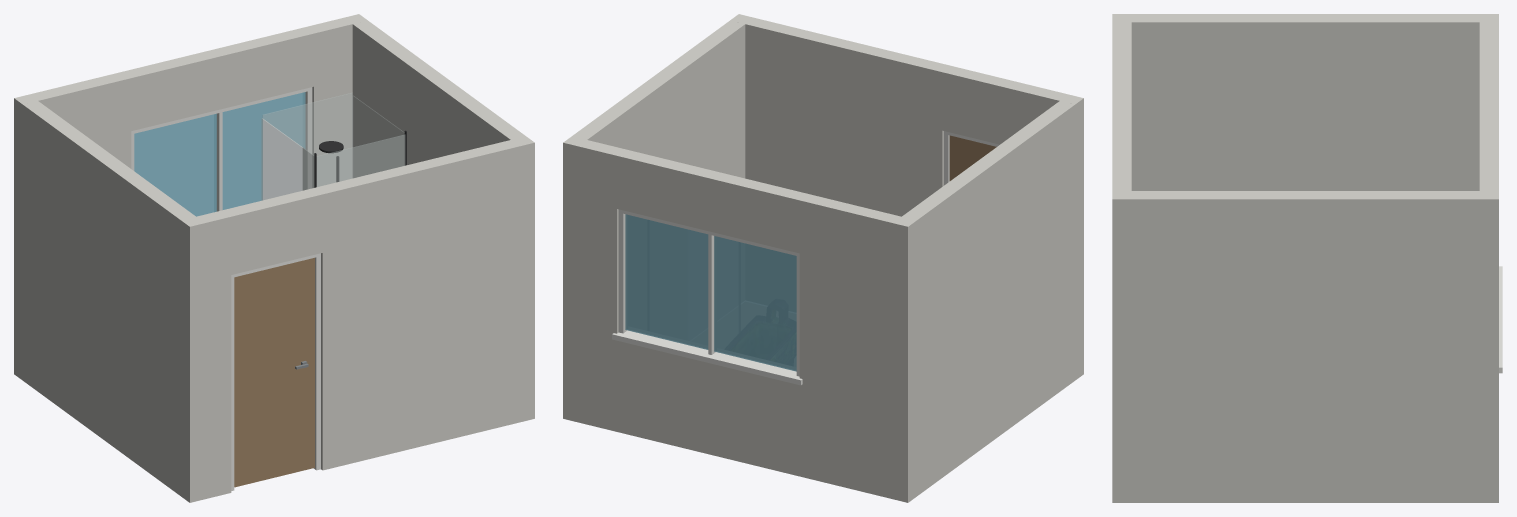
The model's file is layoutvlm.glb.
The picture shows the model from 3 angles, left to right: view 1: azimuth 30°, elevation 25°; view 2: azimuth 150°, elevation 25°; view 3: azimuth 270°, elevation 25°; orthographic projection. The views are drawn at different scales.
Visible parts, largest first — view 1: wall|scenesmith_076__R00|0, wall|scenesmith_076__R00|2, wall|scenesmith_076__R00|1, wall|scenesmith_076__R00|0 Door 0 | wood leaf, wall|scenesmith_076__R00|3, wall|scenesmith_076__R00|1 Window 0 | glazing, Rear glass, wall|scenesmith_076__R00|0 Door 0 | jamb, wall|scenesmith_076__R00|1 Window 0 | jamb, Rain head; view 2: wall|scenesmith_076__R00|1, wall|scenesmith_076__R00|2, wall|scenesmith_076__R00|0, wall|scenesmith_076__R00|1 Window 0 | glazing, wall|scenesmith_076__R00|3, wall|scenesmith_076__R00|1 Window 0 | jamb, wall|scenesmith_076__R00|0 Door 0 | wood leaf; view 3: wall|scenesmith_076__R00|3, wall|scenesmith_076__R00|2, wall|scenesmith_076__R00|0, wall|scenesmith_076__R00|1.
Boxes of the visible parts, left/top/right/bottom form: wall|scenesmith_076__R00|0: left=181, top=136, right=534, bottom=502; wall|scenesmith_076__R00|2: left=23, top=101, right=195, bottom=502; wall|scenesmith_076__R00|1: left=14, top=14, right=367, bottom=380; wall|scenesmith_076__R00|0 Door 0 | wood leaf: left=234, top=257, right=314, bottom=487; wall|scenesmith_076__R00|3: left=352, top=20, right=525, bottom=177; wall|scenesmith_076__R00|1 Window 0 | glazing: left=134, top=92, right=305, bottom=216; Rear glass: left=261, top=93, right=405, bottom=200; wall|scenesmith_076__R00|0 Door 0 | jamb: left=231, top=253, right=320, bottom=490; wall|scenesmith_076__R00|1 Window 0 | jamb: left=131, top=87, right=312, bottom=211; Rain head: left=314, top=130, right=406, bottom=187; wall|scenesmith_076__R00|1: left=563, top=136, right=916, bottom=502; wall|scenesmith_076__R00|2: left=902, top=98, right=1083, bottom=495; wall|scenesmith_076__R00|0: left=730, top=14, right=1083, bottom=216; wall|scenesmith_076__R00|1 Window 0 | glazing: left=625, top=214, right=796, bottom=371; wall|scenesmith_076__R00|3: left=572, top=20, right=745, bottom=178; wall|scenesmith_076__R00|1 Window 0 | jamb: left=612, top=209, right=802, bottom=385; wall|scenesmith_076__R00|0 Door 0 | wood leaf: left=949, top=135, right=996, bottom=180; wall|scenesmith_076__R00|3: left=1131, top=191, right=1498, bottom=502; wall|scenesmith_076__R00|2: left=1131, top=14, right=1479, bottom=190; wall|scenesmith_076__R00|0: left=1112, top=14, right=1131, bottom=502; wall|scenesmith_076__R00|1: left=1479, top=14, right=1498, bottom=199.
Size of the model in its own units: 3.4 by 2.61 by 3.03.
